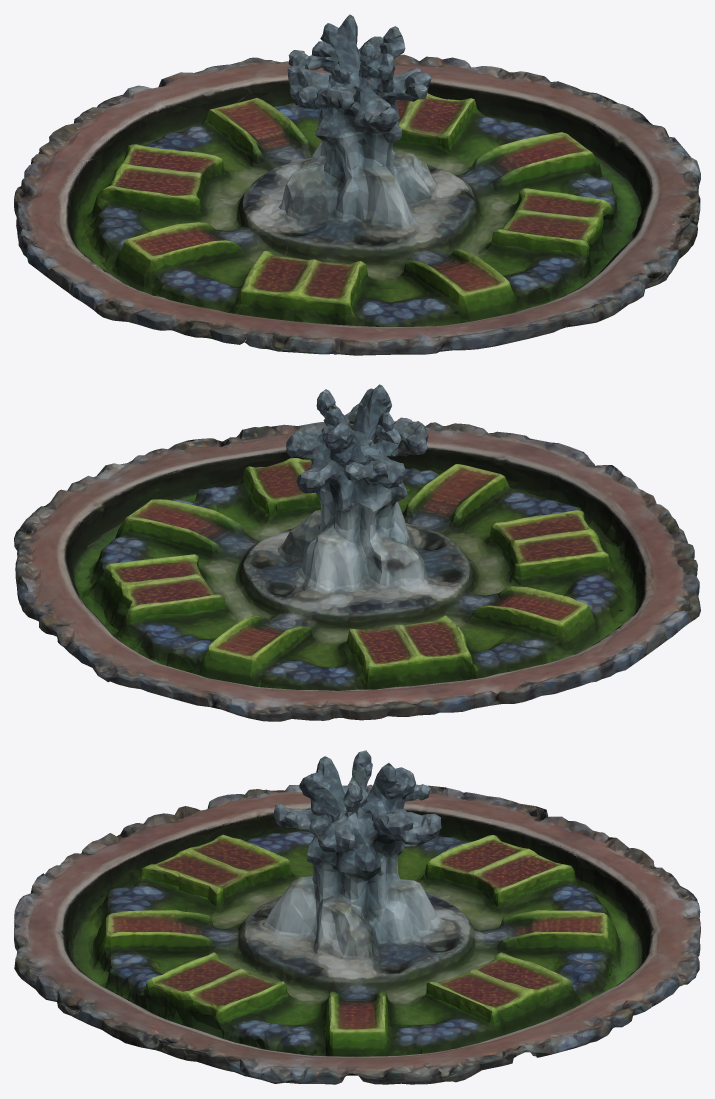
3 views of the same model, one above another, from view 1: azimuth 30°, elevation 25°; view 2: azimuth 150°, elevation 25°; view 3: azimuth 270°, elevation 25° (orthographic).
Parts seen in each view (by area): view 1: world; view 2: world; view 3: world.
Part boxes in pixels (left/top/right/bottom): world: left=14, top=14, right=700, bottom=355; world: left=14, top=384, right=700, bottom=721; world: left=14, top=750, right=700, bottom=1084.
Size of the model in its own units: 0.9996 by 0.3197 by 1.
1 material, 1 textured.
